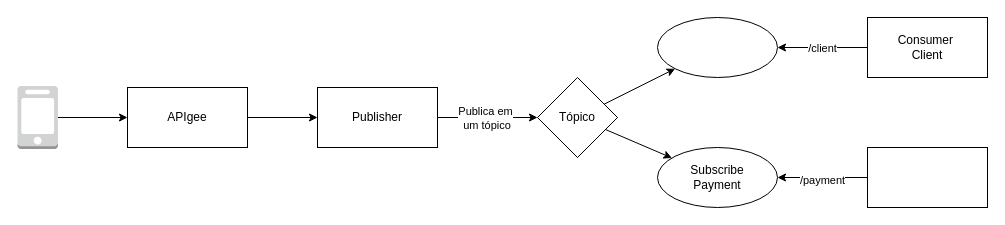
This 1005x225 diagram has some shape labels left out. The shapes that lost their labels are listed below. From the top down, each one's centre as x and y in pixels, then its label:
the point at 717,47: Subscribe Client
the point at 927,177: Consumer Payment
